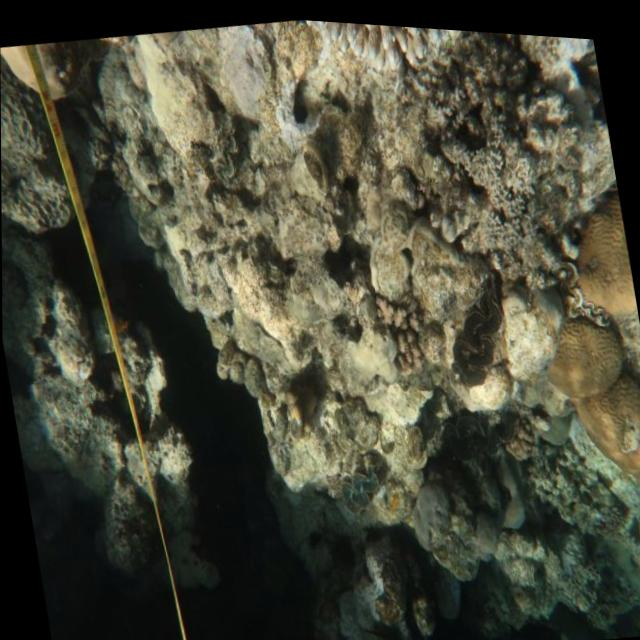Bleached Coral: (524, 291, 640, 516), (283, 15, 483, 82), (553, 174, 638, 322)
